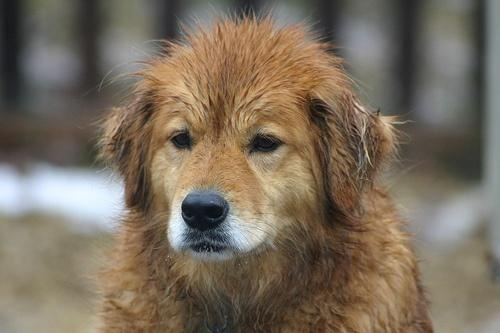dog: (97, 14, 439, 333)
